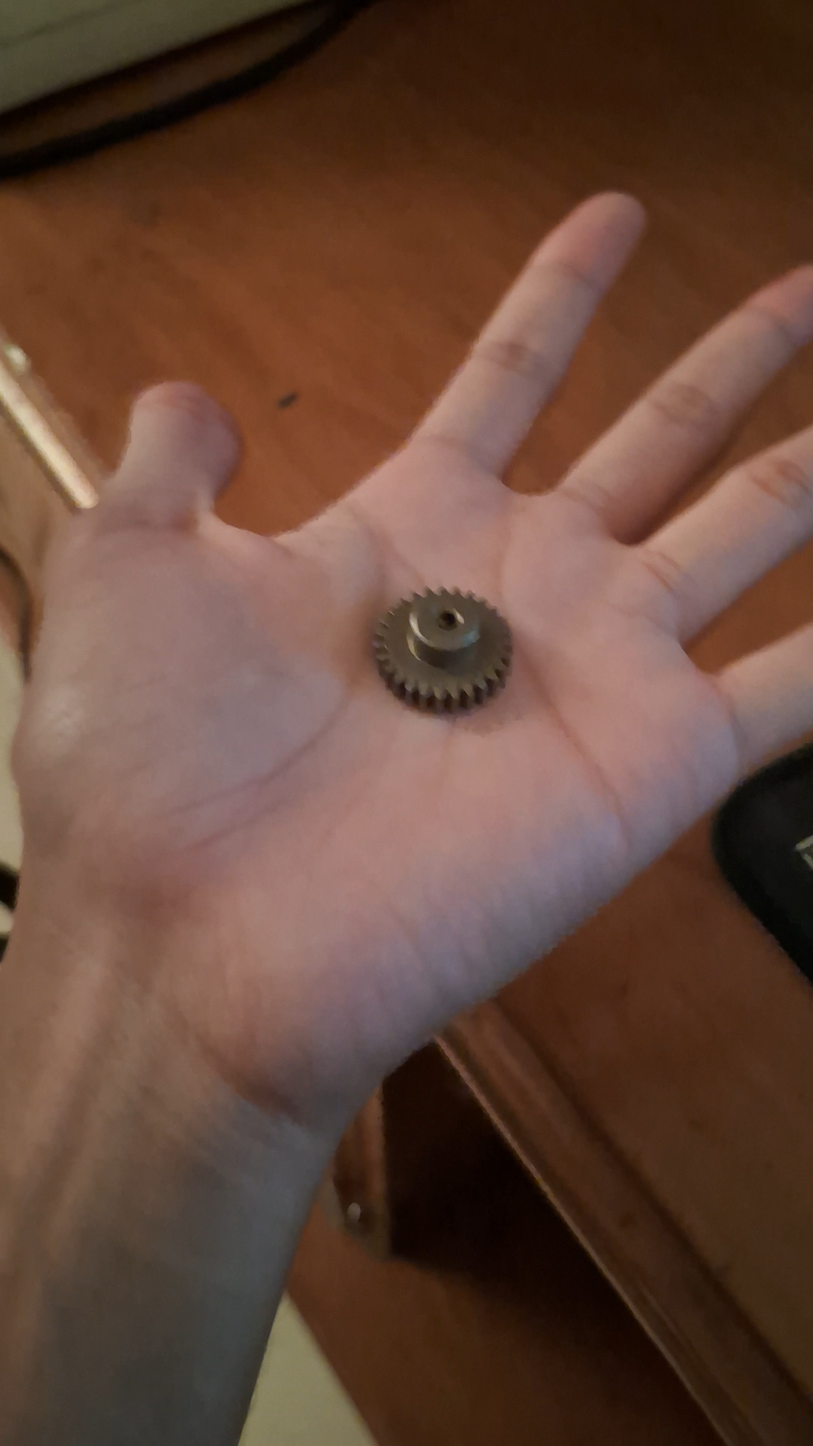spur gear: (373, 590, 512, 713)
